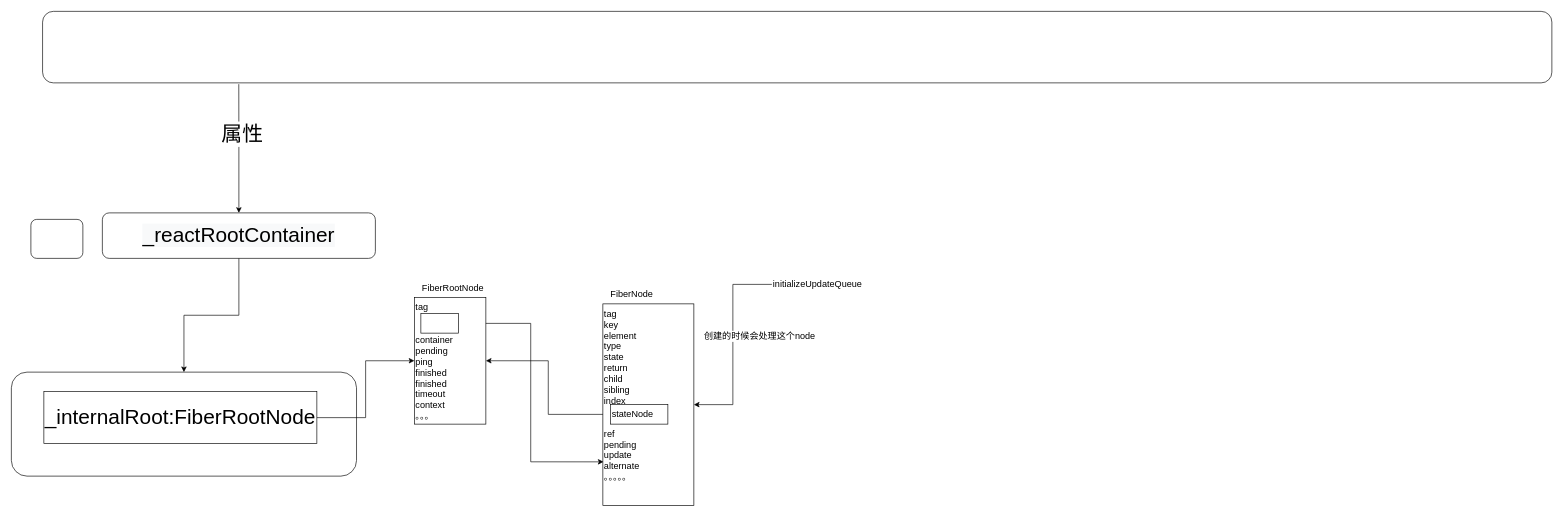
Image size: 1563x517. Some labels were removed from this diagram. The shapes that lost their labels are listed below. From the top down, each one's centre as x and y in pixels, then its label:
At (x=797, y=47): "container document.getElementById('root')".
At (x=56, y=238): "root".
At (x=439, y=323): "current".
